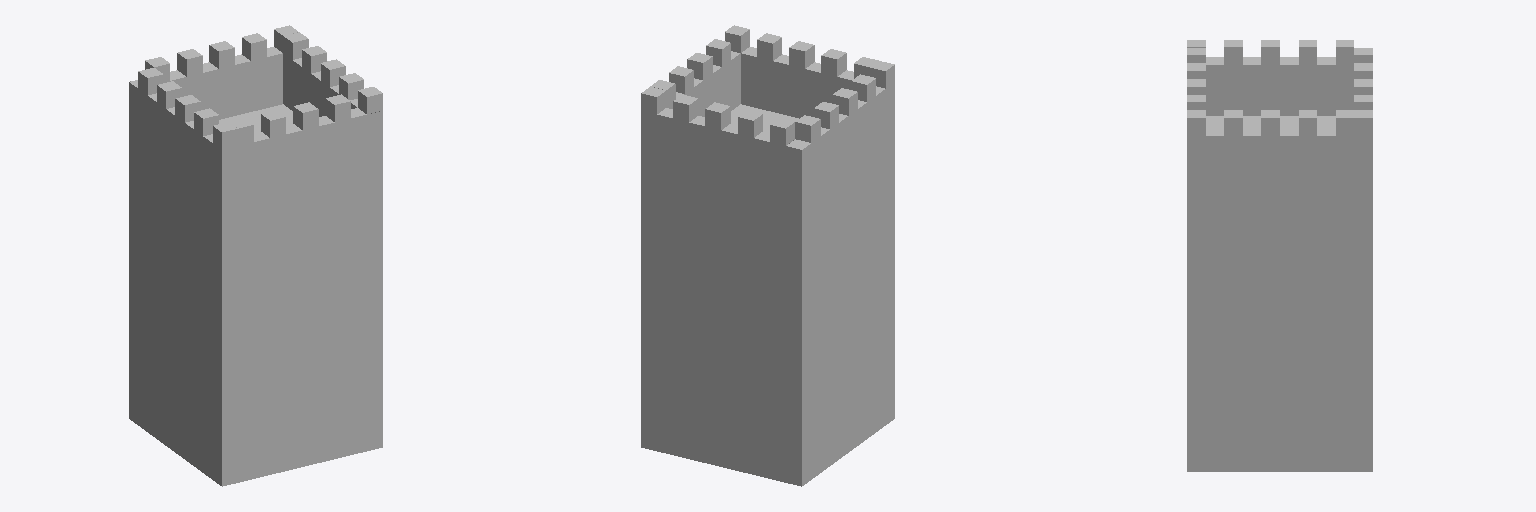
Rendered from cornerwall.obj.
3 views of the same model, side by side, from view 1: azimuth 30°, elevation 25°; view 2: azimuth 150°, elevation 25°; view 3: azimuth 270°, elevation 25° (orthographic).
Size of the model in its own units: 2.5 by 5.26 by 2.5.